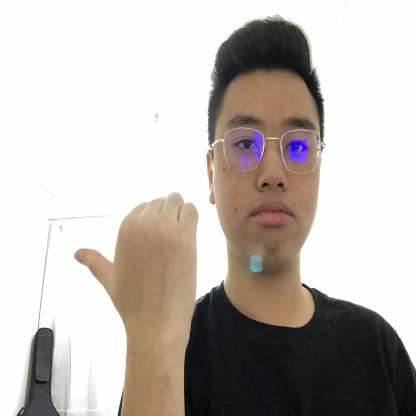right: (74, 192, 199, 324)
